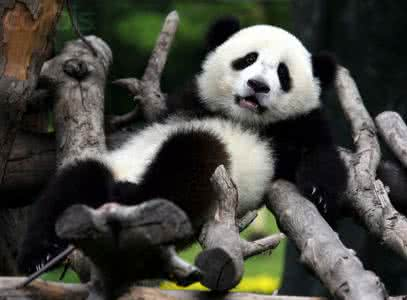panda: (15, 22, 340, 293)
